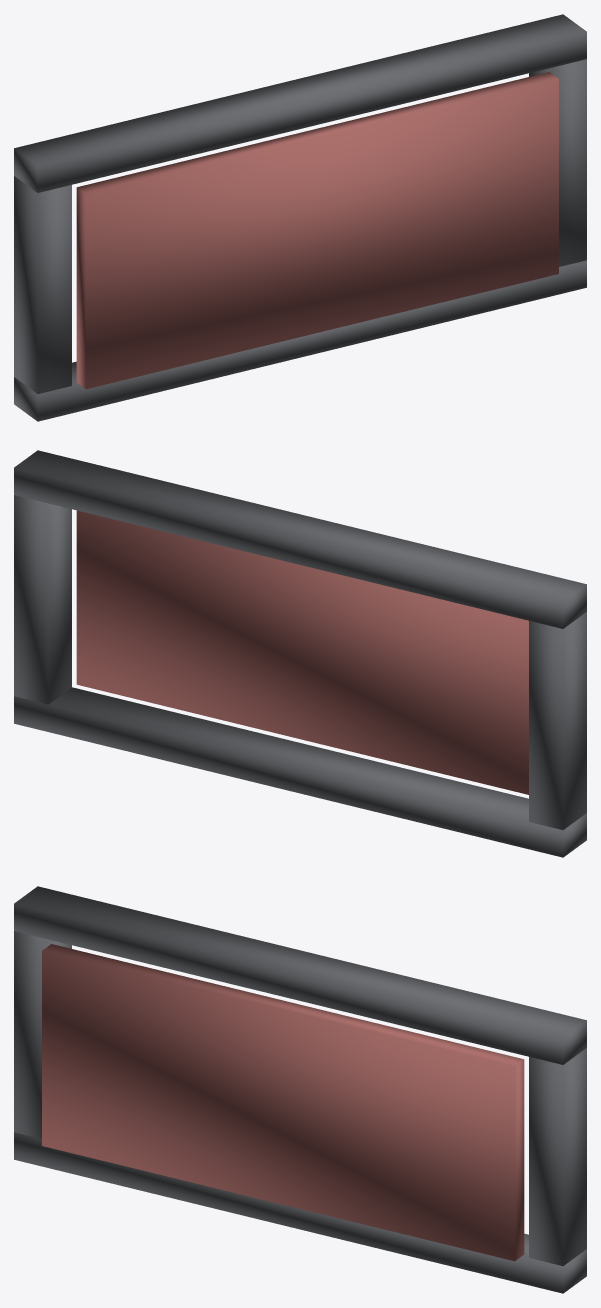
The model's file is on_air_wall_sign__squat.glb.
3 renders of one model, top to bottom at view 1: azimuth 30°, elevation 25°; view 2: azimuth 150°, elevation 25°; view 3: azimuth 330°, elevation 25°, orthographic.
Parts seen in each view (by area): view 1: world; view 2: world; view 3: world.
Part boxes in pixels (box(x1,y1,x2,y2)): world: box(14, 14, 586, 421); world: box(14, 450, 586, 857); world: box(14, 886, 586, 1293).
Bounding box in the file's own units: 0.792 × 0.3528 × 0.0848.
